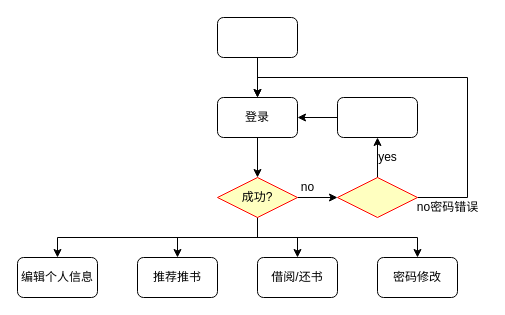
Image size: 505x315. Some labels were removed from this diagram. The box of each missing label's shape, as (x1, y1, x2, y2) in pixels:
注册: (336, 96, 418, 138)
用户: (216, 16, 298, 58)
用户不存在?: (336, 176, 418, 218)
